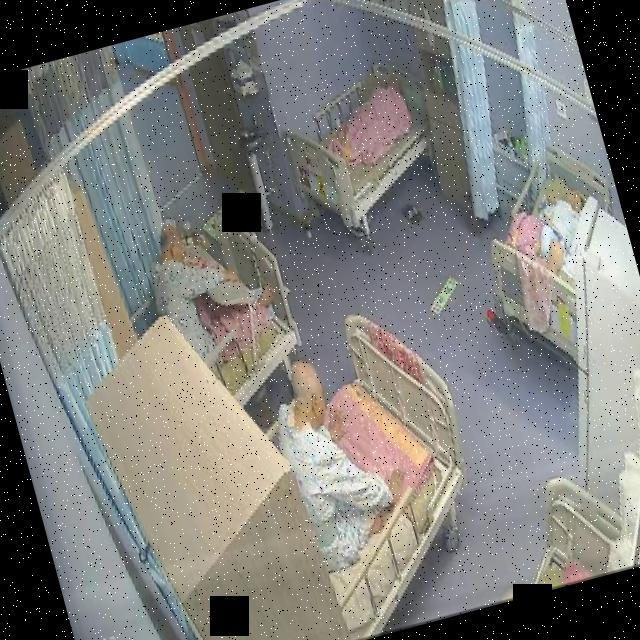bed: (237, 299, 506, 640), (458, 133, 640, 377), (136, 212, 311, 422), (274, 50, 452, 239)
lie: (528, 182, 602, 272)
patient: (259, 338, 423, 580), (132, 197, 290, 380), (526, 180, 602, 272)
sit: (259, 338, 423, 580), (133, 197, 290, 381)
